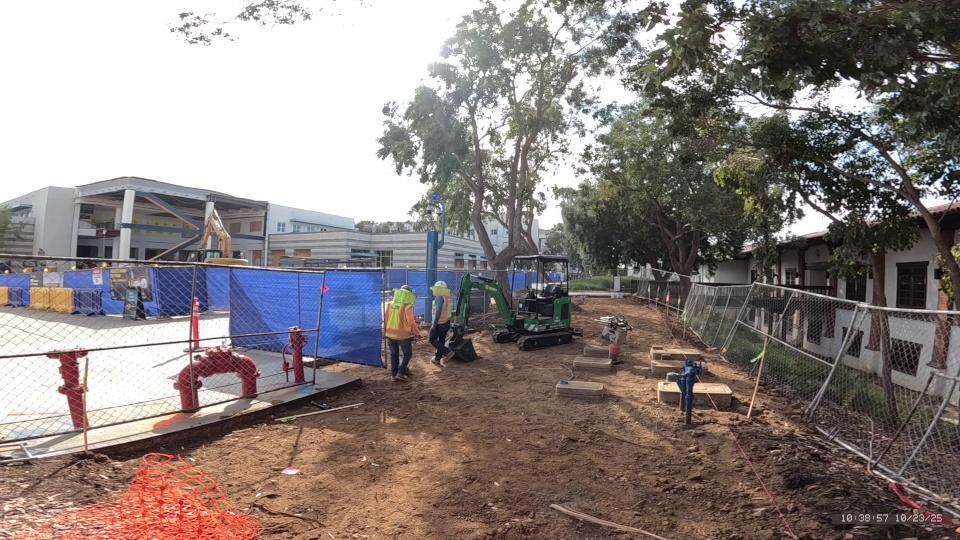Exacavator: (448, 252, 583, 352)
